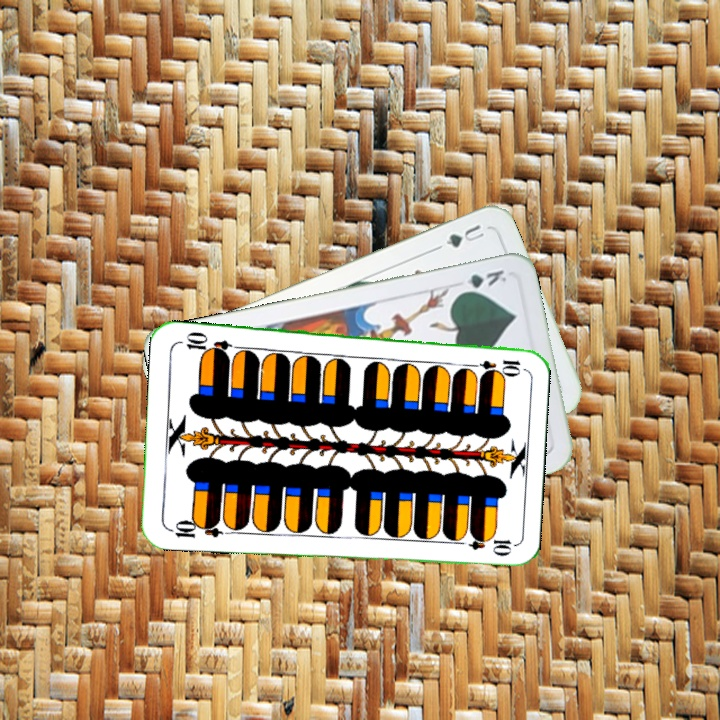E10: (165, 515, 224, 541), (464, 355, 523, 374)
GK: (454, 265, 509, 297)
GU: (441, 220, 487, 251)
